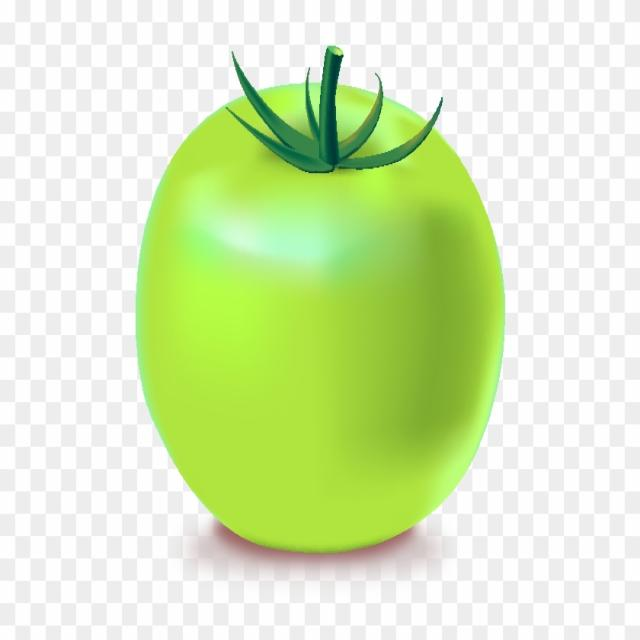kirmizi: (119, 58, 513, 570)
